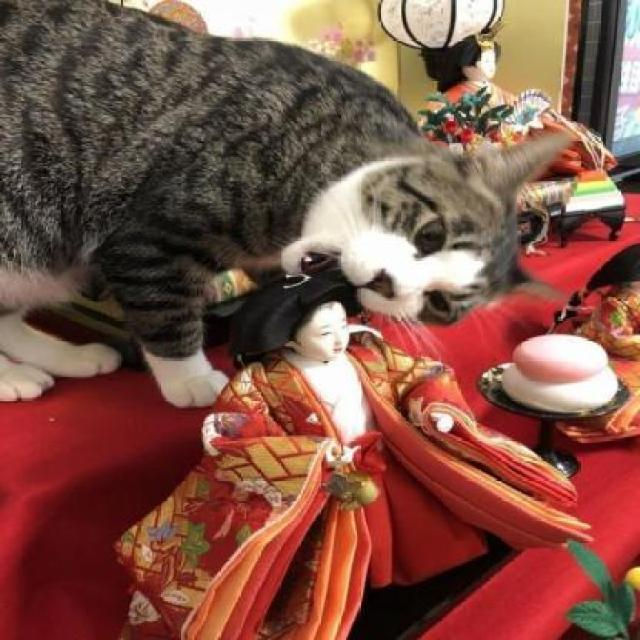cat: (0, 1, 563, 387)
